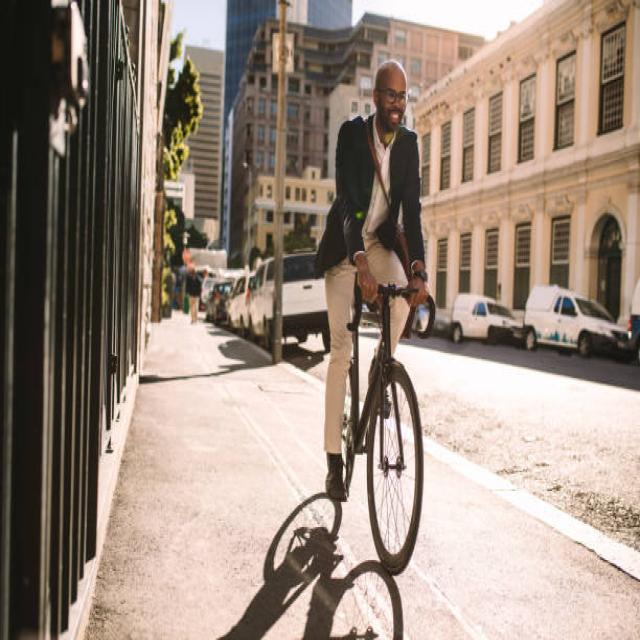bicycle: (315, 62, 434, 573)
car: (521, 285, 630, 356)
